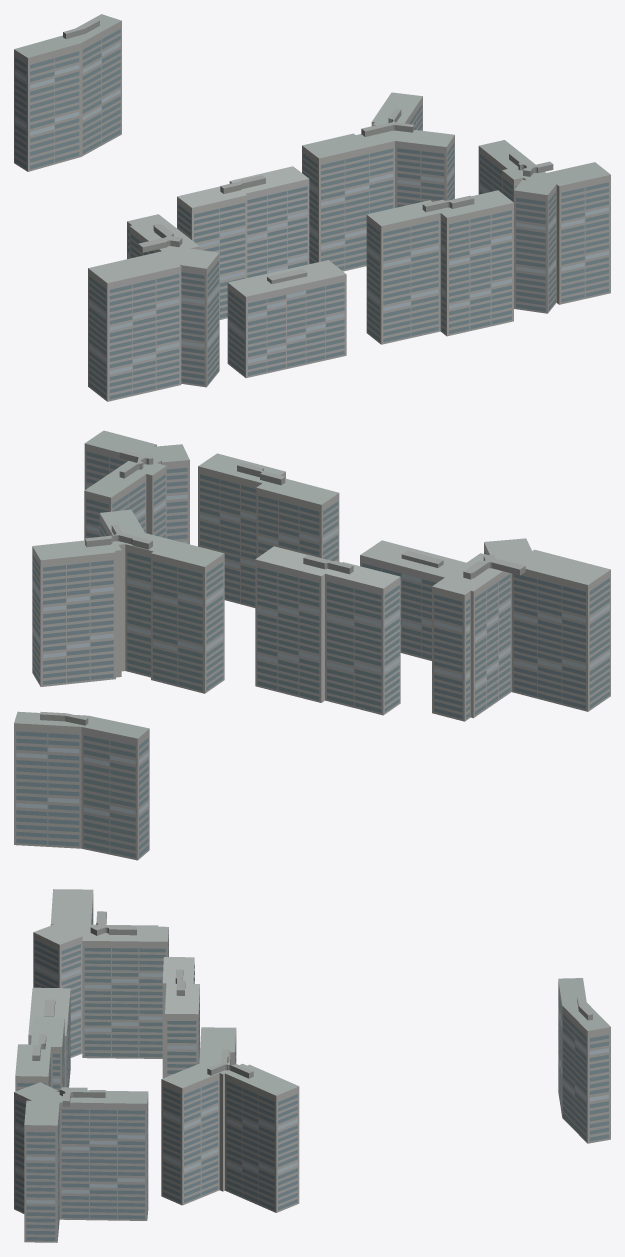
The model's file is apt-a13185508.glb.
3 renders of one model, top to bottom at view 1: azimuth 30°, elevation 25°; view 2: azimuth 150°, elevation 25°; view 3: azimuth 270°, elevation 25°, orthographic. The views are drawn at different scales.
Visible parts, largest first — view 1: apt-a13185508; view 2: apt-a13185508; view 3: apt-a13185508.
Part boxes in pixels (box(x1,y1,x2,y2)): apt-a13185508: box(14, 14, 610, 401); apt-a13185508: box(14, 430, 610, 860); apt-a13185508: box(14, 889, 610, 1242).
Bounding box in the file's own units: 211 × 51 × 225.
